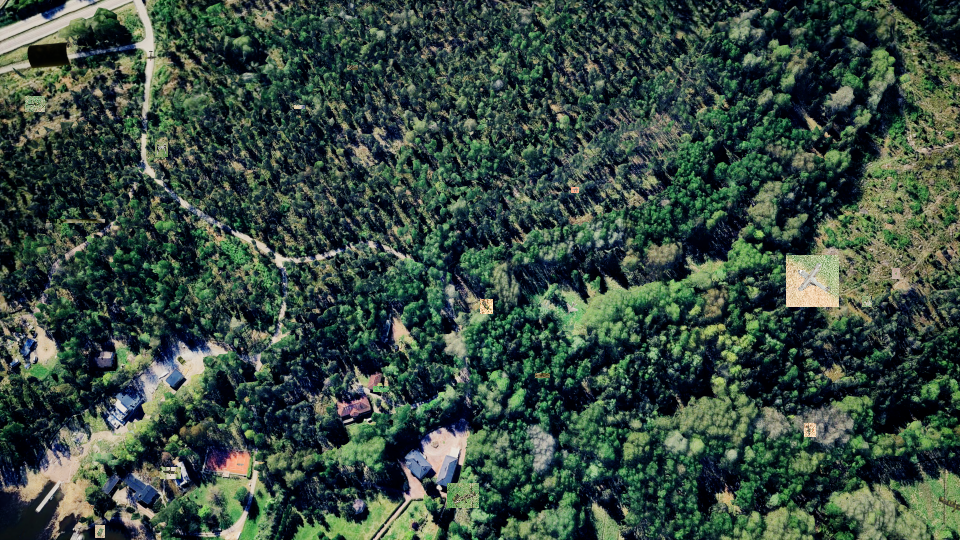condor: (786, 255, 839, 307)
hangar: (46, 219, 105, 223)
helicopter: (25, 96, 45, 112)
jammer: (95, 525, 105, 538)
jet_plane: (373, 386, 389, 392)
large_launcher: (447, 483, 479, 508)
large_tower: (347, 65, 358, 70)
medium_launcher: (535, 373, 550, 378)
medium_plane: (160, 467, 181, 479)
mine_roller: (480, 299, 493, 314)
small_launcher: (892, 268, 900, 279)
small_plane: (804, 423, 816, 437)
small_tower: (862, 296, 872, 307)
spacecraft: (155, 142, 168, 157)
ta-ta: (571, 187, 579, 193)
tank: (294, 105, 305, 109)
